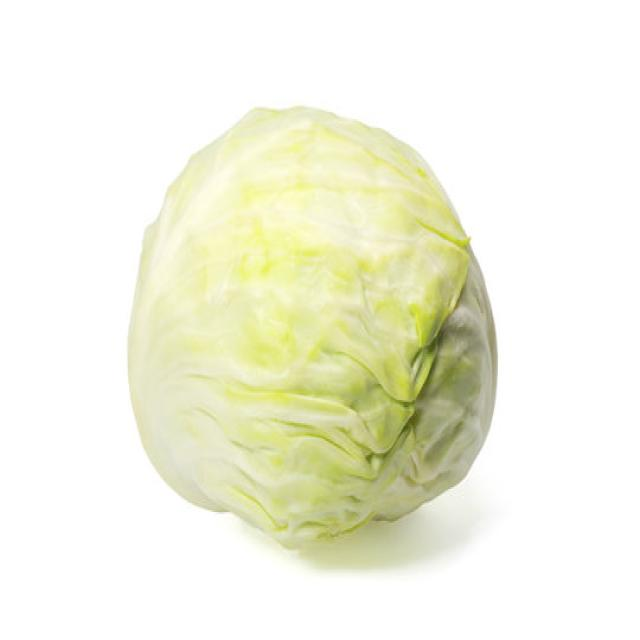Cabbage: (125, 103, 498, 549)
